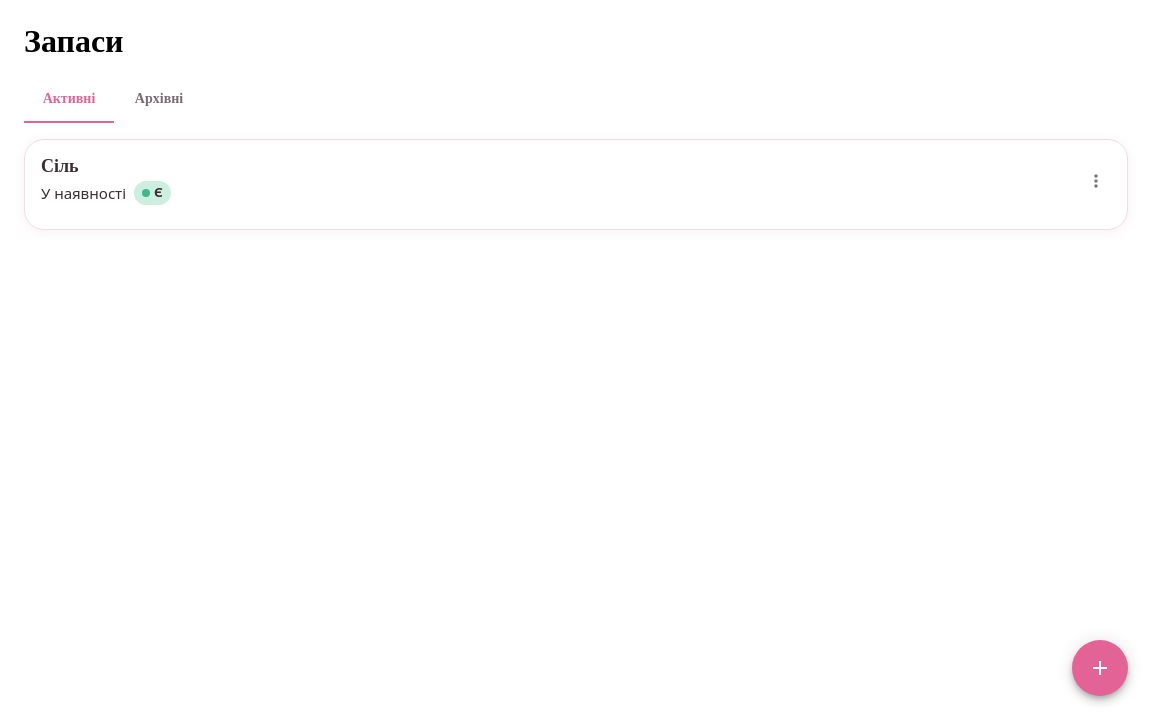
InventoryPage stock/presence action availability › shows mark-present and mark-absent actions (and not restock/correction) for a presence ingredient
Click the button named "Більше дій для «Сіль»": (1096, 180) [1081,166,1111,196]
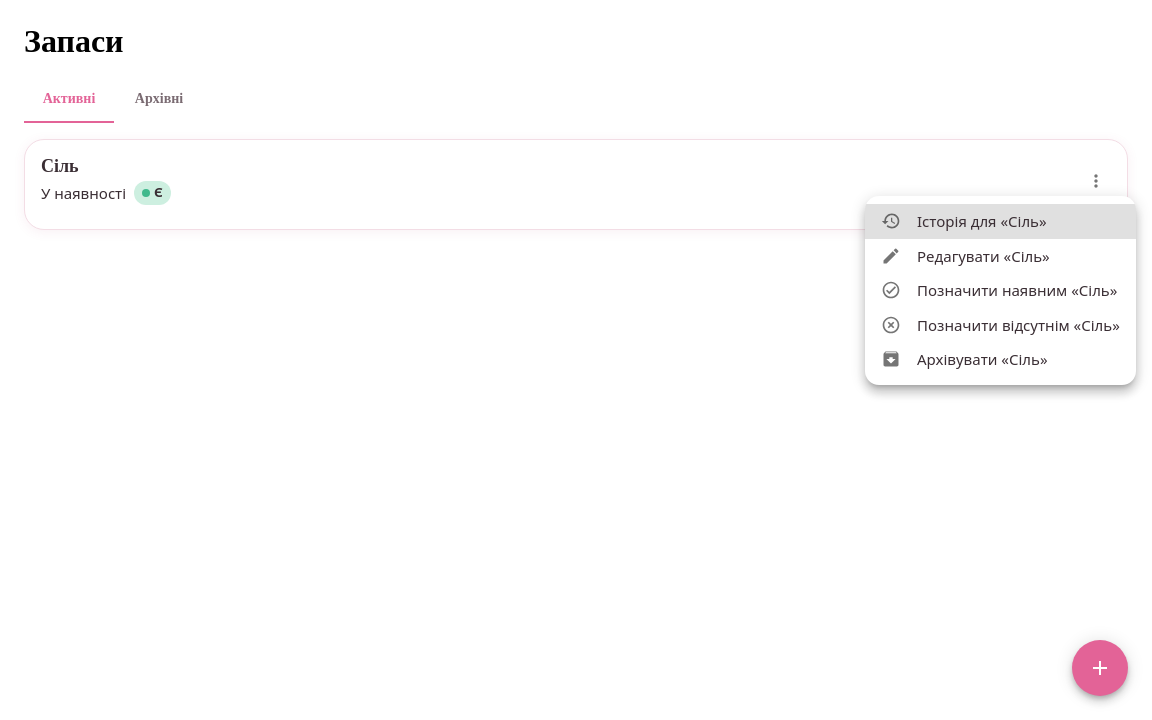
Result: the menu item "Позначити наявним «Сіль»" is shown at [881,280,1117,300]
Result: the menu item "Позначити відсутнім «Сіль»" is shown at [881,314,1120,335]
